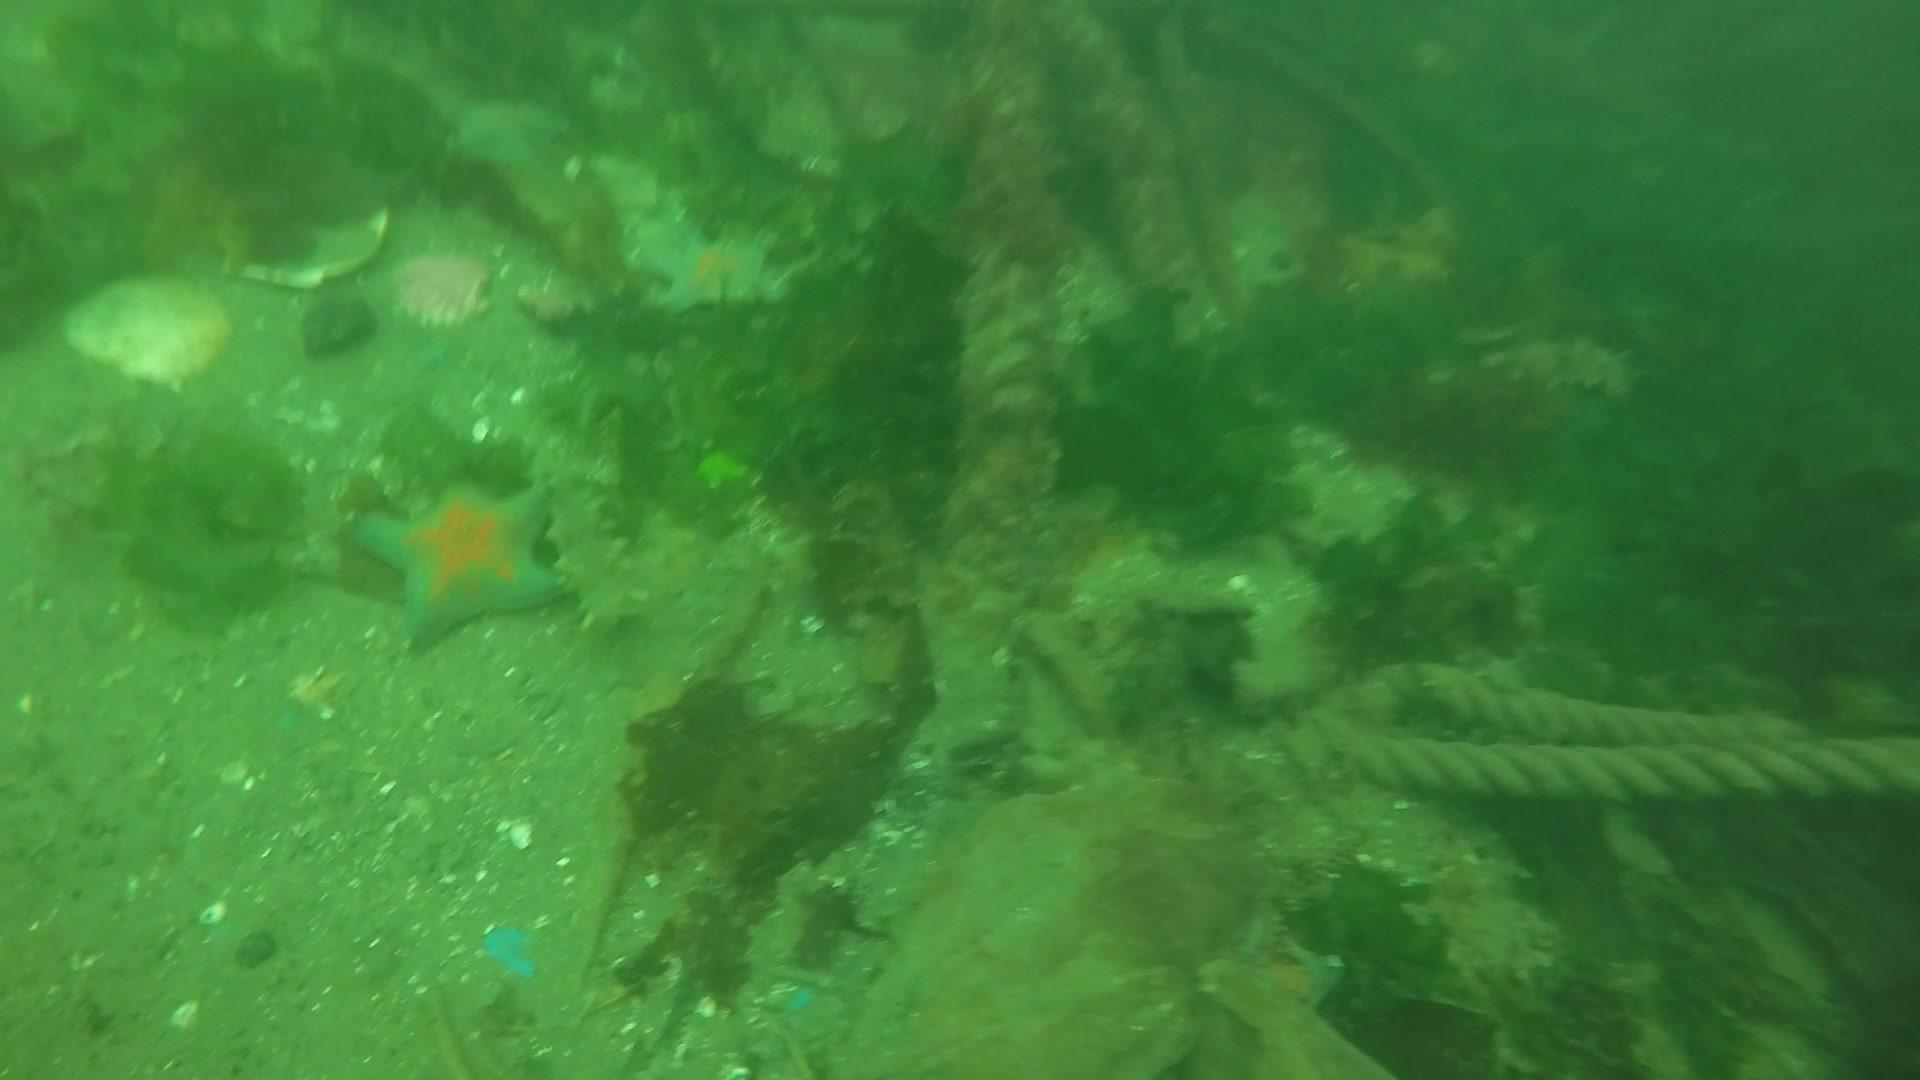holothurian: (1506, 327, 1650, 401)
scallop: (57, 282, 235, 397), (392, 255, 498, 335)
starfish: (344, 473, 584, 651), (1203, 897, 1353, 1055), (651, 219, 793, 315), (438, 92, 579, 166)
